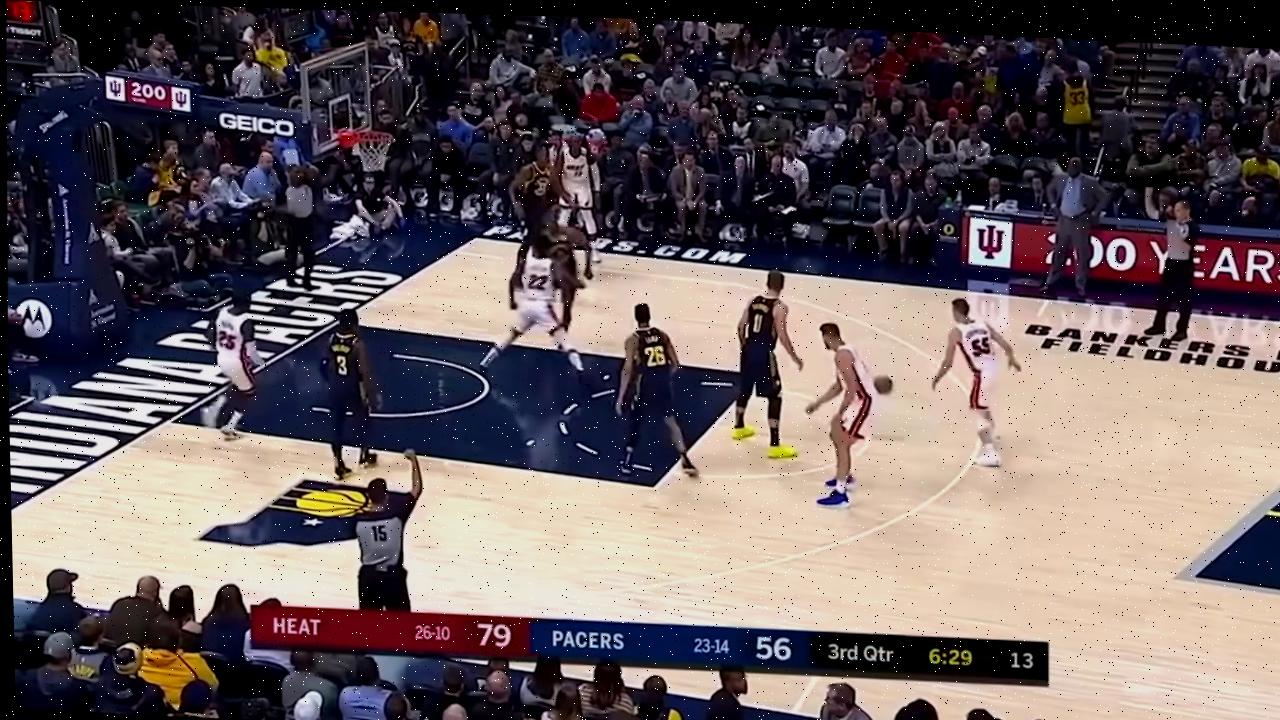foul: (483, 208, 604, 376)
